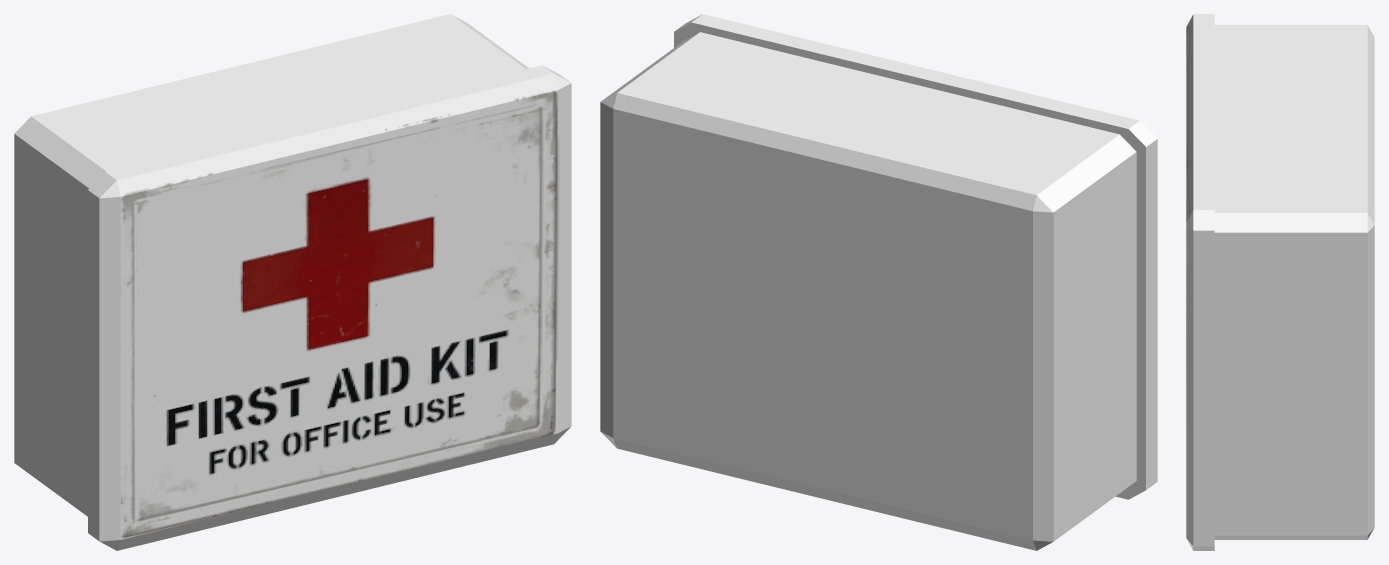
The model's file is first_aid.fbx.
The picture shows the model from 3 angles, left to right: view 1: azimuth 30°, elevation 25°; view 2: azimuth 150°, elevation 25°; view 3: azimuth 270°, elevation 25°; orthographic projection. The views are drawn at different scales.
Parts seen in each view (by area): view 1: Cube; view 2: Cube; view 3: Cube.
Boxes of the visible parts, <box> form: Cube: <box>14,14,571,550</box>; Cube: <box>600,14,1157,550</box>; Cube: <box>1186,14,1374,550</box>.
Size of the model in its own units: 40 by 30 by 15.
Materials: 1 (1 with a texture image).
